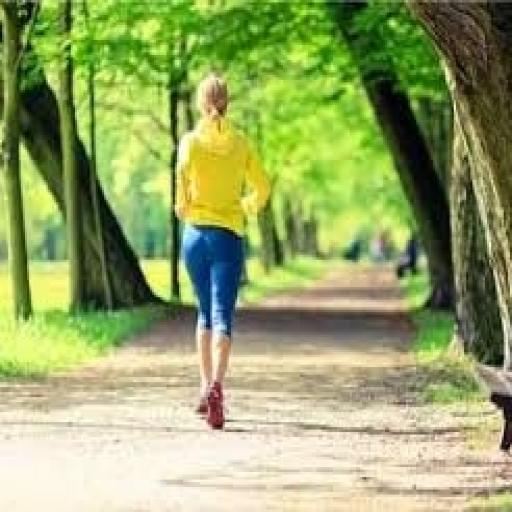running: (168, 73, 276, 432)
